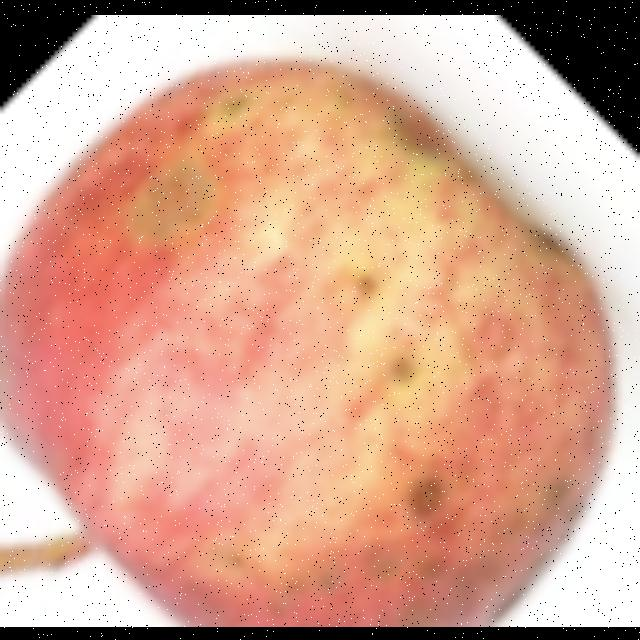Apel Tidak Segar: (0, 59, 609, 626)
